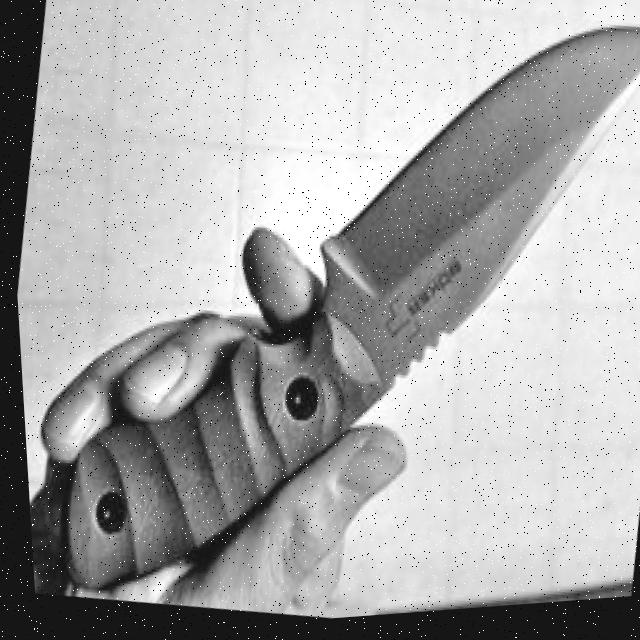knife: (23, 0, 640, 639)
